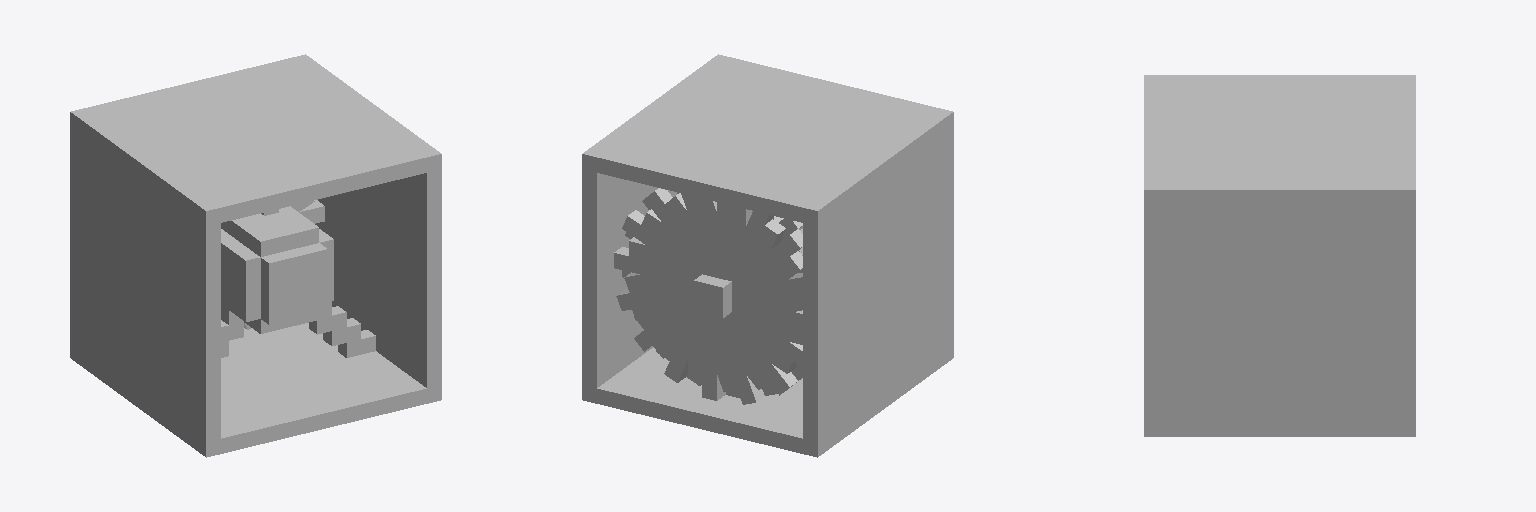
The model's file is cleanroom_ventilator_active.obj.
The picture shows the model from 3 angles: view 1: azimuth 30°, elevation 25°; view 2: azimuth 150°, elevation 25°; view 3: azimuth 270°, elevation 25°; orthographic projection.
Parts seen in each view (by area): view 1: node_0_0_0.001, node_0_1_0.003; view 2: node_0_0_0.001, node_0_1_0.003; view 3: node_0_0_0.001.
Boxes of the visible parts, <box> form: node_0_0_0.001: <box>70,54,441,457</box>; node_0_1_0.003: <box>244,200,324,329</box>; node_0_0_0.001: <box>582,54,953,457</box>; node_0_1_0.003: <box>614,188,802,404</box>; node_0_0_0.001: <box>1144,75,1415,436</box>.
Size of the model in its own units: 1 by 1 by 1.